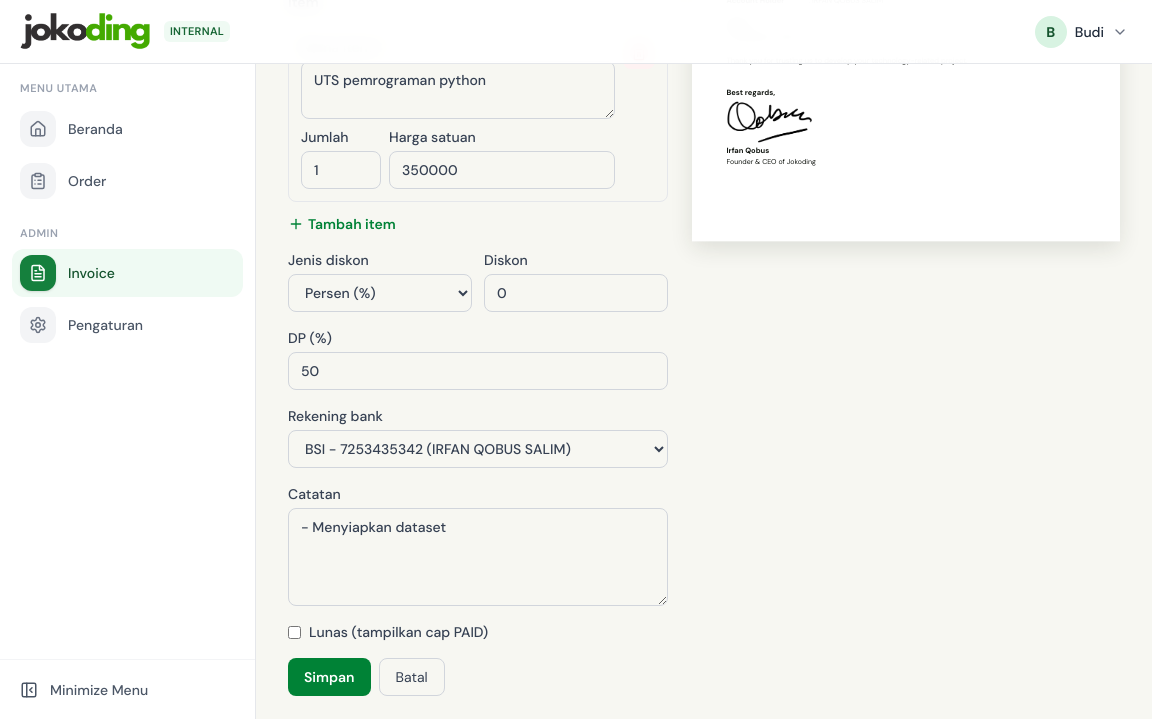
Test case: InvoiceEditor (new) › shows the 409 message on save
(page scrolled)
What coordinates should you click on to do the following:
click the button "Simpan"
I would click on:
 (329, 677)
Its box is top-left (288, 658), bottom-right (371, 696).
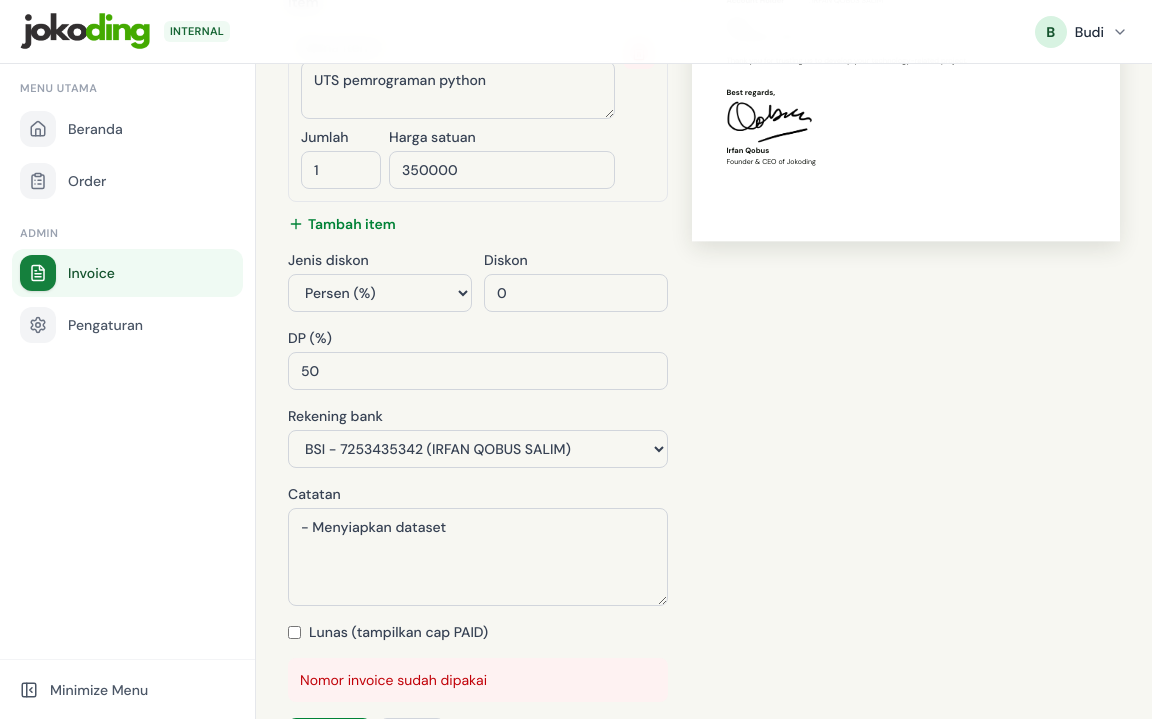
Result: the message reads "Nomor invoice sudah dipakai" at top-left (300, 671), bottom-right (487, 689)
